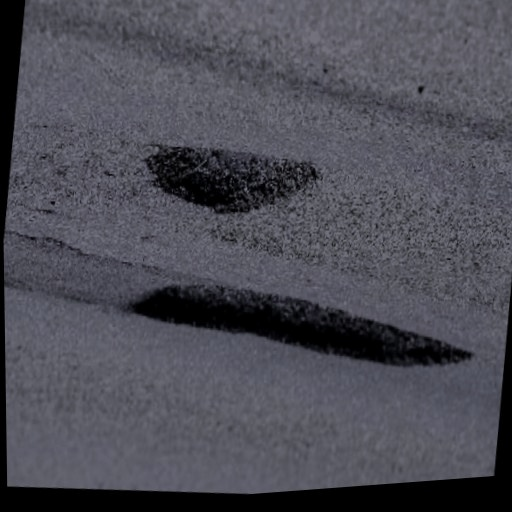pothole: (120, 253, 483, 398), (138, 126, 325, 232)
